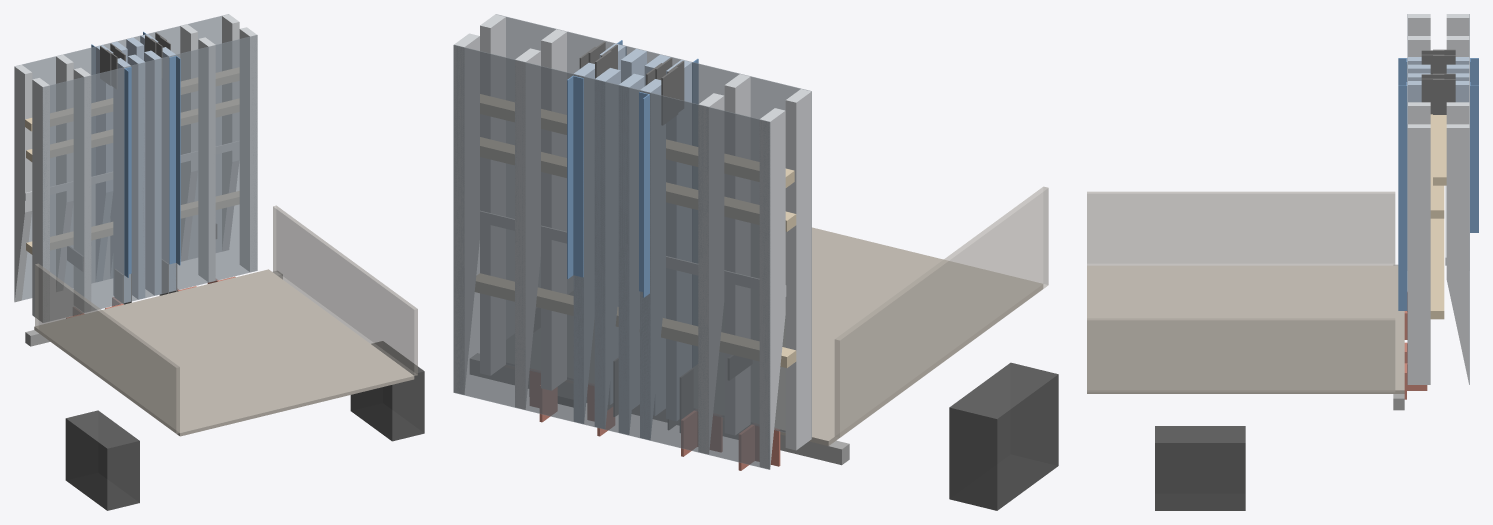
The model's file is trap_v2_do_jazdy.glb.
The picture shows the model from 3 angles, left to right: view 1: azimuth 30°, elevation 25°; view 2: azimuth 150°, elevation 25°; view 3: azimuth 270°, elevation 25°; orthographic projection. The views are drawn at different scales.
Visible parts, largest first — view 1: 020_siatka Al, 044_podłoga przyczepy, 046_burta, 047_burta, 021_siatka Al, 049_koło przyczepy, 008_podłużnica 100×40×2, 013_podłużnica 100×40×2, 012_podłużnica 100×40×2, 000_rura jezdna 100×40×3 (6082), 048_koło przyczepy, 009_podłużnica 100×40×2 (+16 smaller); view 2: 021_siatka Al, 044_podłoga przyczepy, 047_burta, 049_koło przyczepy, 020_siatka Al, 013_podłużnica 100×40×2, 015_podłużnica 100×40×2, 011_podłużnica 100×40×2, 010_podłużnica 100×40×2, 014_podłużnica 100×40×2, 002_rura jezdna 100×40×3 (6082), 008_podłużnica 100×40×2 (+18 smaller); view 3: 044_podłoga przyczepy, 046_burta, 047_burta, 048_koło przyczepy, 012_podłużnica 100×40×2, 014_podłużnica 100×40×2, 024_prowadnica 40×40×4, 016_poprzeczka 60×40×3, 028_prowadnica 40×40×4, 018_poprzeczka 60×40×3, 017_poprzeczka 60×40×3, 038_płyta Z (B) (+6 smaller).
Part boxes in pixels (x1,y1,x2,y2): 020_siatka Al: [42, 35, 257, 322]; 044_podłoga przyczepy: [34, 269, 414, 436]; 046_burta: [273, 205, 417, 375]; 047_burta: [35, 263, 179, 433]; 021_siatka Al: [14, 14, 228, 301]; 049_koło przyczepy: [65, 410, 139, 510]; 008_podłużnica 100×40×2: [198, 37, 215, 282]; 013_podłużnica 100×40×2: [32, 78, 49, 322]; 012_podłużnica 100×40×2: [239, 27, 257, 272]; 000_rura jezdna 100×40×3 (6082): [144, 50, 161, 295]; 048_koło przyczepy: [350, 341, 424, 441]; 009_podłużnica 100×40×2: [73, 67, 91, 311]; 021_siatka Al: [453, 45, 770, 469]; 044_podłoga przyczepy: [504, 227, 1042, 445]; 047_burta: [834, 186, 1048, 437]; 049_koło przyczepy: [949, 362, 1058, 510]; 020_siatka Al: [496, 14, 811, 438]; 013_podłużnica 100×40×2: [785, 89, 811, 450]; 015_podłużnica 100×40×2: [759, 108, 785, 469]; 011_podłużnica 100×40×2: [698, 93, 724, 454]; 010_podłużnica 100×40×2: [515, 48, 540, 409]; 014_podłużnica 100×40×2: [454, 33, 479, 394]; 002_rura jezdna 100×40×3 (6082): [594, 68, 620, 428]; 008_podłużnica 100×40×2: [541, 29, 566, 390]; 044_podłoga przyczepy: [1087, 265, 1404, 393]; 046_burta: [1087, 318, 1395, 392]; 047_burta: [1087, 191, 1395, 265]; 048_koło przyczepy: [1155, 426, 1245, 510]; 012_podłużnica 100×40×2: [1408, 124, 1430, 384]; 014_podłużnica 100×40×2: [1446, 124, 1469, 384]; 024_prowadnica 40×40×4: [1398, 85, 1406, 310]; 016_poprzeczka 60×40×3: [1430, 218, 1444, 319]; 028_prowadnica 40×40×4: [1470, 85, 1478, 232]; 018_poprzeczka 60×40×3: [1433, 115, 1446, 185]; 017_poprzeczka 60×40×3: [1430, 114, 1444, 218]; 038_płyta Z (B): [1433, 79, 1455, 114].
Size of the model in its own units: 1.76 by 1.76 by 1.73.
